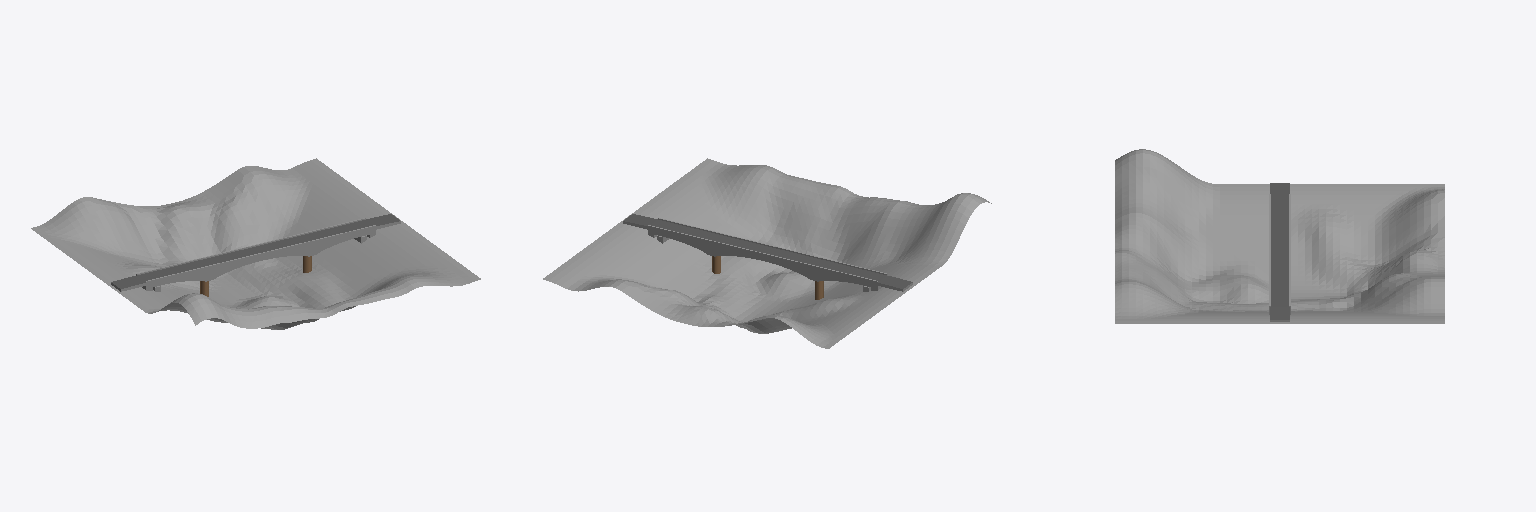
File: beam-bridge.obj
The picture shows the model from 3 angles: view 1: azimuth 30°, elevation 25°; view 2: azimuth 150°, elevation 25°; view 3: azimuth 270°, elevation 25°; orthographic projection.
Parts seen in each view (by area): view 1: Grid, Beam_bridge; view 2: Grid, Beam_bridge; view 3: Grid, Beam_bridge.
Part boxes in pixels (x1,y1,x2,y2): Grid: (31, 158, 480, 329); Beam_bridge: (111, 214, 400, 296); Grid: (543, 158, 991, 348); Beam_bridge: (623, 214, 912, 299); Grid: (1115, 149, 1444, 323); Beam_bridge: (1269, 183, 1290, 321).
Size of the model in its own units: 47 by 13.19 by 47.